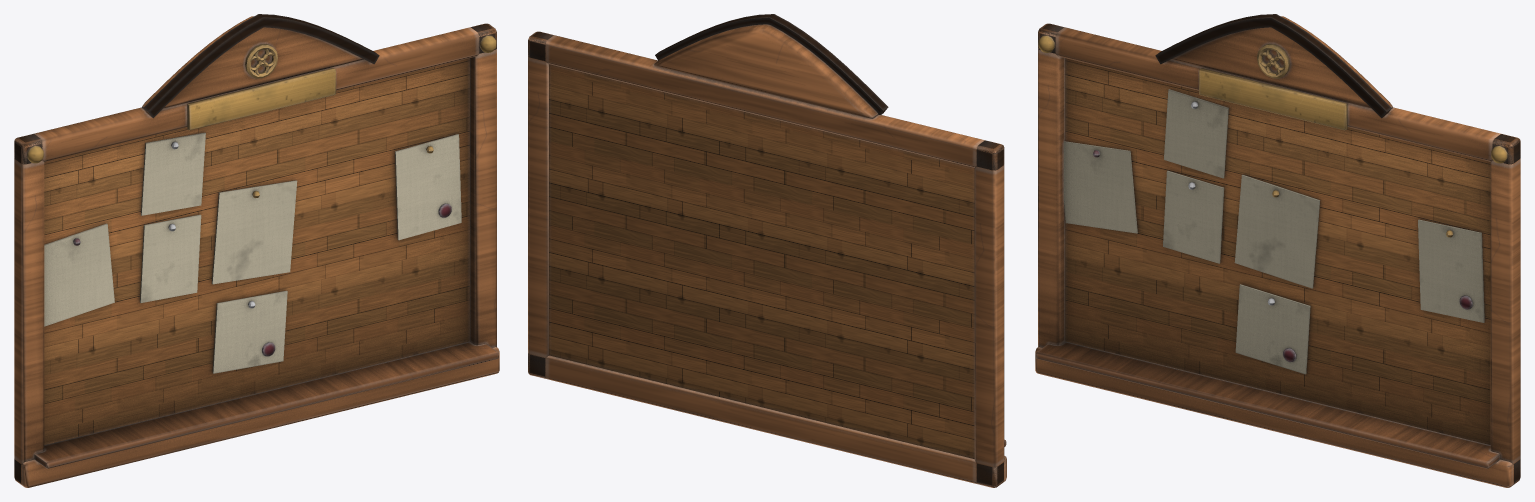
Rendered from NoticeBoard.fbx.
3 renders of one model, left to right at view 1: azimuth 30°, elevation 25°; view 2: azimuth 150°, elevation 25°; view 3: azimuth 330°, elevation 25°, orthographic.
Visible parts, largest first — view 1: NoticeBoard; view 2: NoticeBoard; view 3: NoticeBoard.
Part boxes in pixels (left/top/right/bottom): NoticeBoard: left=14, top=14, right=499, bottom=487; NoticeBoard: left=528, top=14, right=1006, bottom=487; NoticeBoard: left=1035, top=14, right=1520, bottom=487.
Size of the model in its own units: 420 by 350 by 35.
